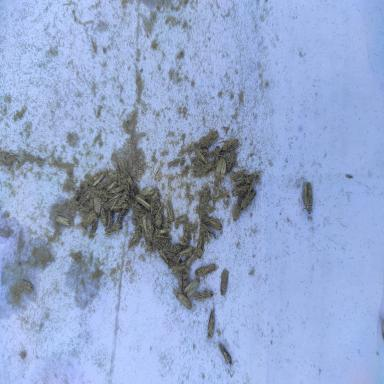pbw: (169, 283, 192, 310), (300, 178, 317, 214), (202, 214, 224, 236), (240, 182, 256, 211), (221, 130, 241, 153), (184, 279, 200, 305), (194, 263, 216, 281), (198, 187, 210, 219), (207, 298, 215, 342), (236, 172, 261, 186), (128, 225, 142, 250), (123, 169, 137, 194), (78, 212, 97, 230), (195, 231, 207, 259), (77, 189, 92, 210), (157, 246, 172, 267), (124, 194, 142, 211), (198, 158, 216, 175), (134, 194, 152, 210), (214, 155, 227, 177), (154, 203, 165, 229), (70, 186, 84, 206), (181, 266, 190, 296), (231, 183, 250, 197), (175, 246, 195, 259), (226, 150, 237, 173), (234, 196, 244, 221), (143, 230, 154, 252), (200, 224, 215, 240), (116, 208, 129, 226), (184, 250, 197, 268), (195, 147, 208, 165), (190, 290, 213, 300), (164, 200, 174, 223), (92, 172, 106, 188), (221, 267, 228, 297), (104, 224, 123, 235), (144, 211, 152, 236), (212, 145, 221, 167), (165, 243, 183, 254), (55, 215, 70, 227), (155, 228, 173, 238), (108, 185, 126, 194), (172, 262, 186, 273), (21, 279, 33, 291), (140, 187, 154, 197), (100, 207, 107, 226), (107, 180, 117, 192), (174, 215, 188, 223), (107, 209, 113, 226), (92, 218, 97, 233), (219, 191, 231, 197), (344, 173, 353, 179)
